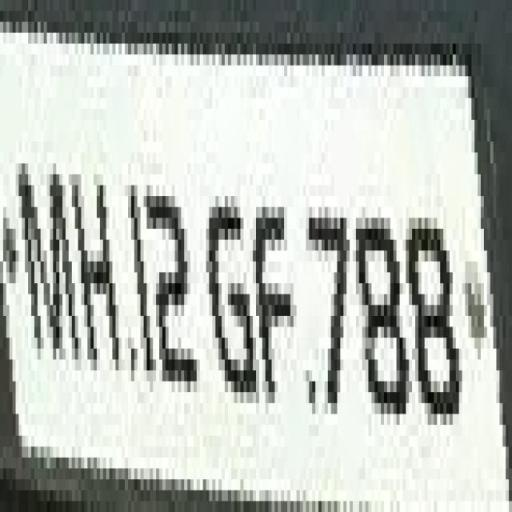number plate: (0, 33, 487, 512)
